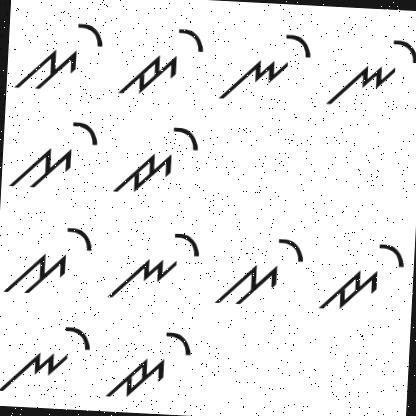jay: (104, 319, 196, 406), (318, 234, 408, 318), (118, 20, 206, 104), (112, 121, 201, 199)
nyay: (0, 313, 96, 399), (104, 225, 204, 306), (218, 26, 316, 104), (322, 30, 416, 111)
say: (0, 216, 94, 304), (214, 225, 310, 310), (10, 13, 107, 96), (8, 116, 101, 194)
